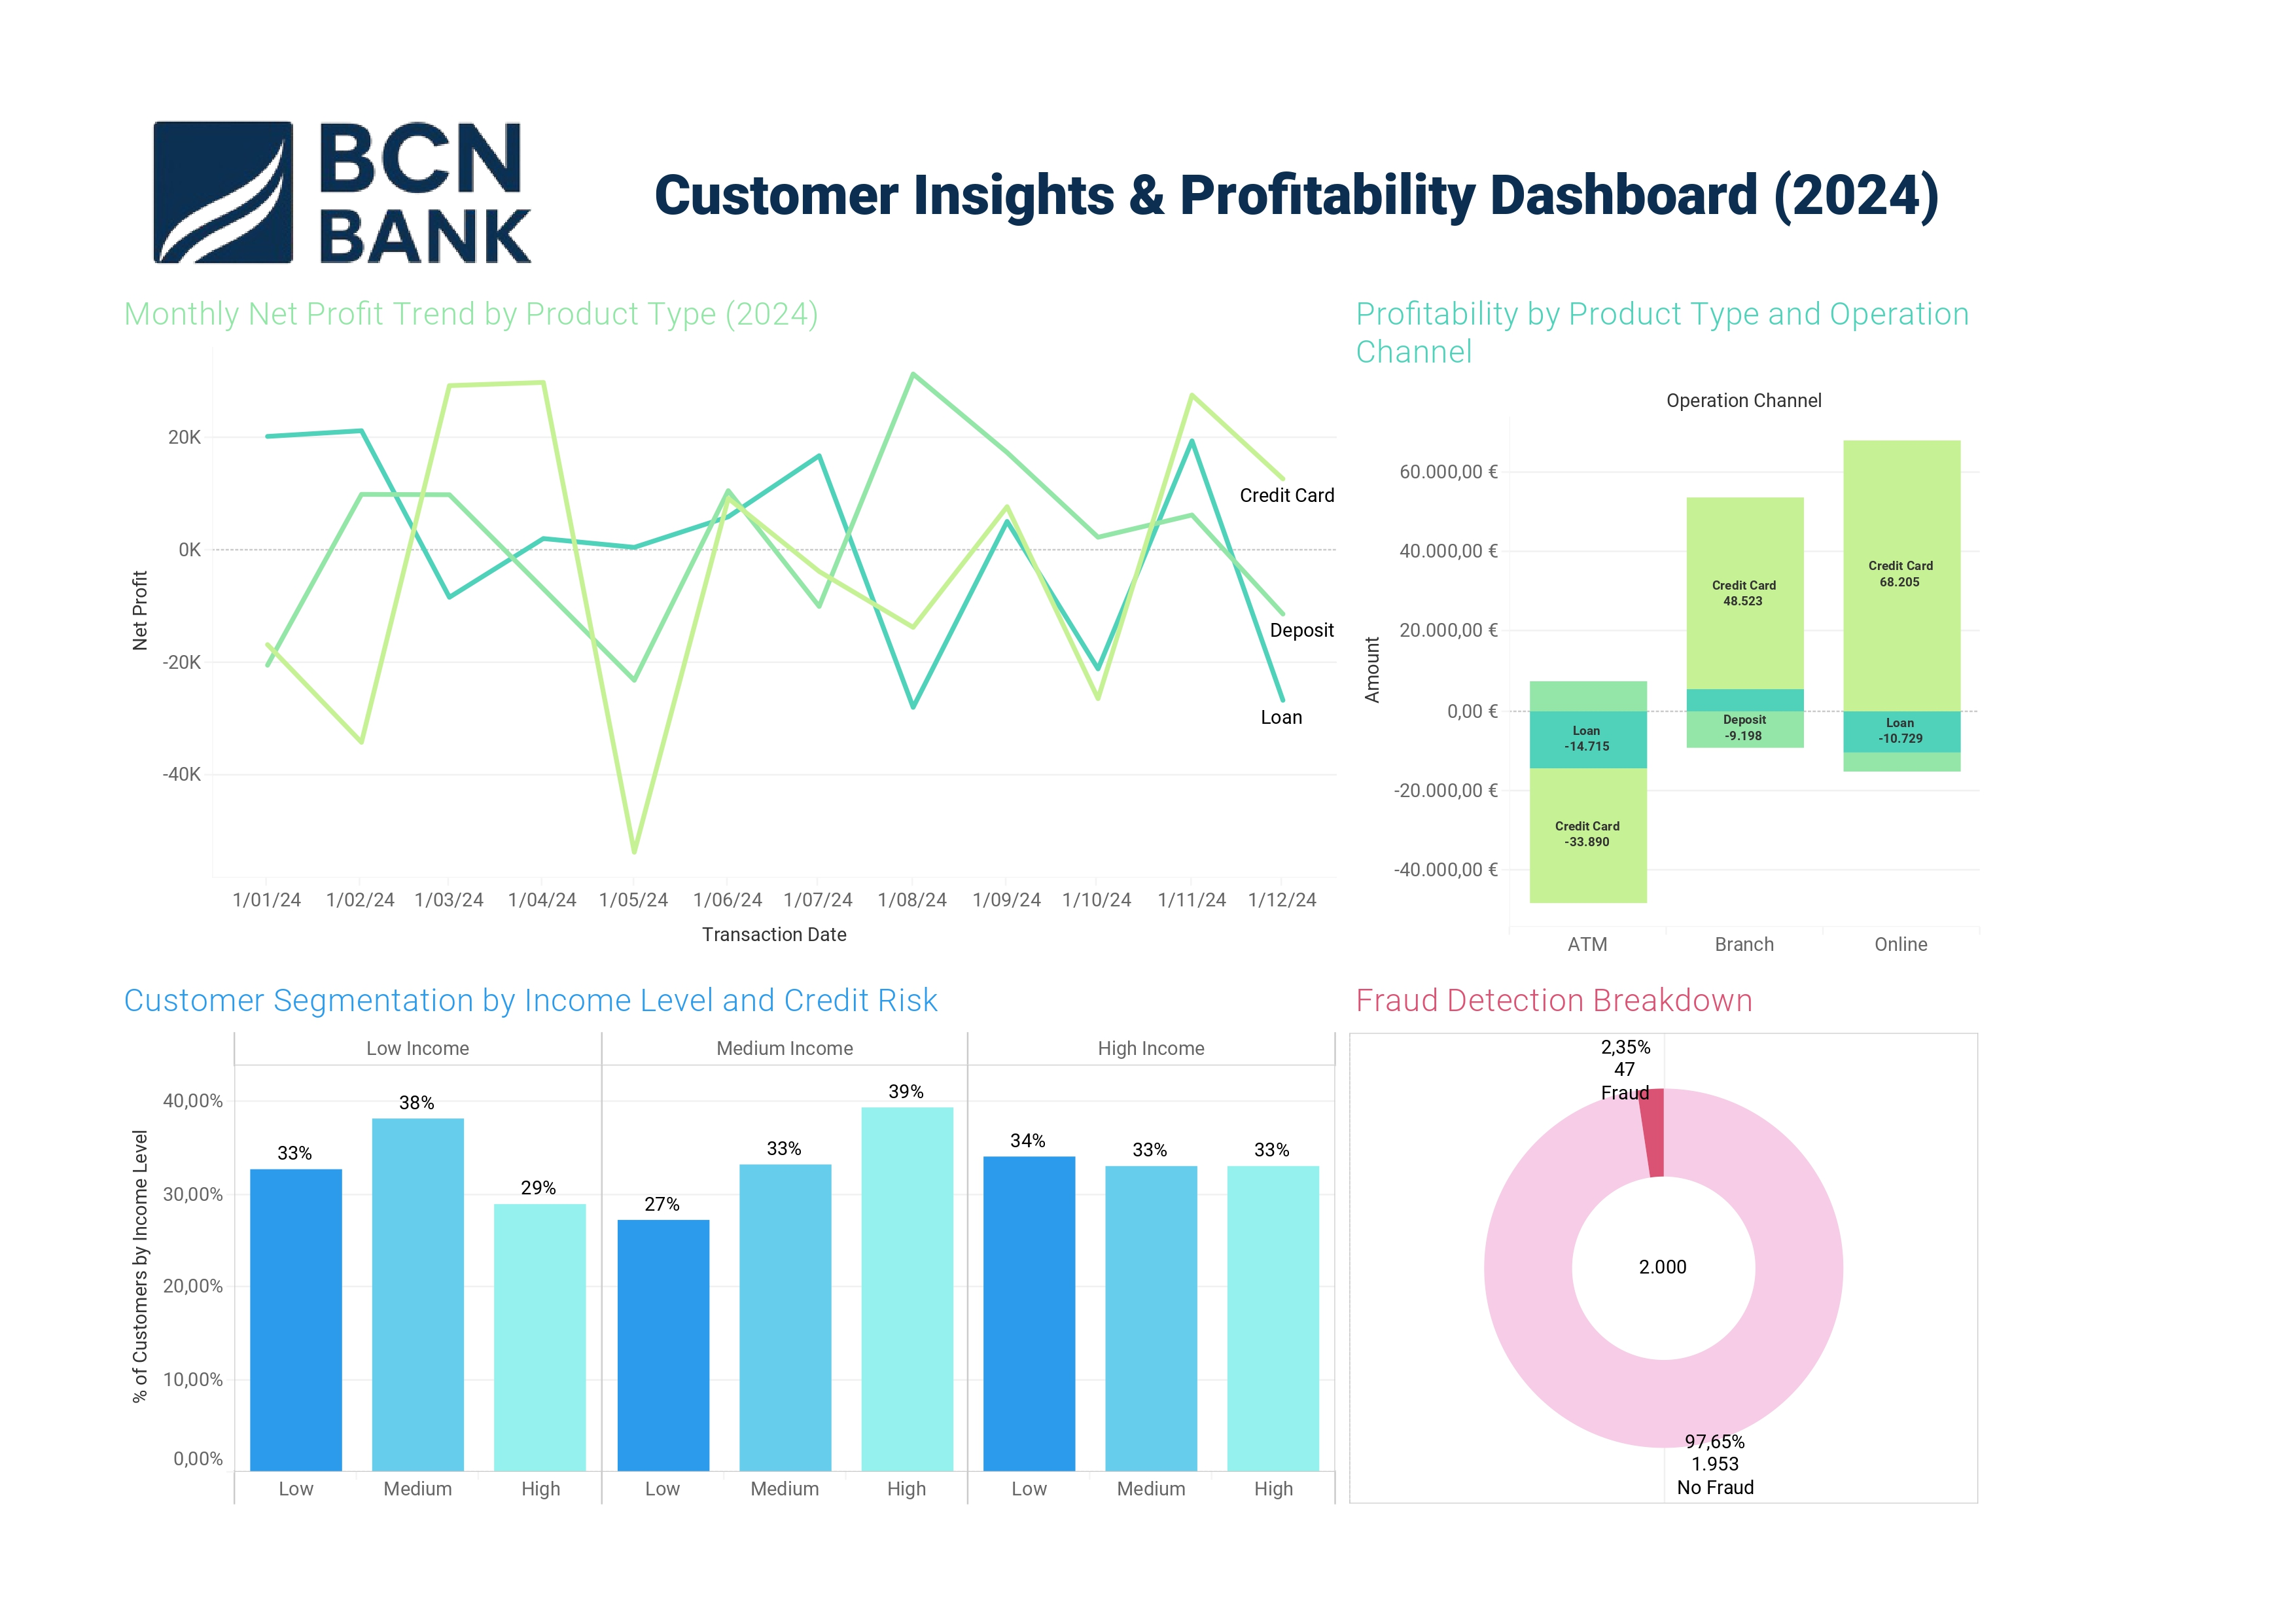

What the dashboard file says about the page in this screenshot:
{"tool":"tableau","page":{"name":"BCN BANK – Customer Insights & Profitability Dashboard (2024)","canvas":[1200,900],"ordinal":0},"visuals":[{"type":"image","param":"C:/Users/Usuario/Documents/DataScience/BCNBank/logo.png","box":[8,8,314,106]},{"type":"text","box":[322,8,870,106]},{"type":"worksheet","title":"Monthly Net Profit Trend by Product Type (2024)","mark":"Line","rows":["Calculation_1104789349657600001"],"cols":["Calculation_1104789349655838720"],"box":[8,114,778.4,433]},{"type":"worksheet","title":"Profitability by Product Type and Operation Channel","mark":"Automatic","rows":["amount"],"cols":["operation_channel"],"box":[786.4,114,405.6,433]},{"type":"worksheet","title":"Customer Segmentation by Income Level and Credit Risk","mark":"Automatic","rows":["Calculation_917045539936272385"],"cols":["income_level","credit_risk"],"box":[8,546.9,778.4,345.1]},{"type":"worksheet","title":"Fraud Detection Breakdown","mark":"Pie","cols":["Calculation_1436366872396189696","Calculation_1436366872396189696"],"box":[786.4,547,405.6,345]}]}

Visuals, with their boxes on the page's 1200x900 design canvas (x1, y1, x2, y2). These are canvas units, not pixel positions in the 2296x1623 screenshot, which may show the page scaled, cropped or inside an application window:
image: (x1=8, y1=8, x2=322, y2=114)
text: (x1=322, y1=8, x2=1192, y2=114)
"Monthly Net Profit Trend by Product Type (2024)" worksheet (Line marks): (x1=8, y1=114, x2=786, y2=547)
"Profitability by Product Type and Operation Channel" worksheet: (x1=786, y1=114, x2=1192, y2=547)
"Customer Segmentation by Income Level and Credit Risk" worksheet: (x1=8, y1=547, x2=786, y2=892)
"Fraud Detection Breakdown" worksheet (Pie marks): (x1=786, y1=547, x2=1192, y2=892)
